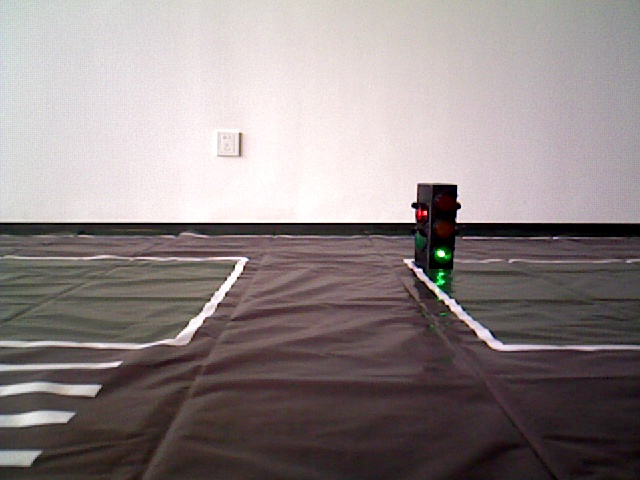green: (416, 184, 451, 263)
